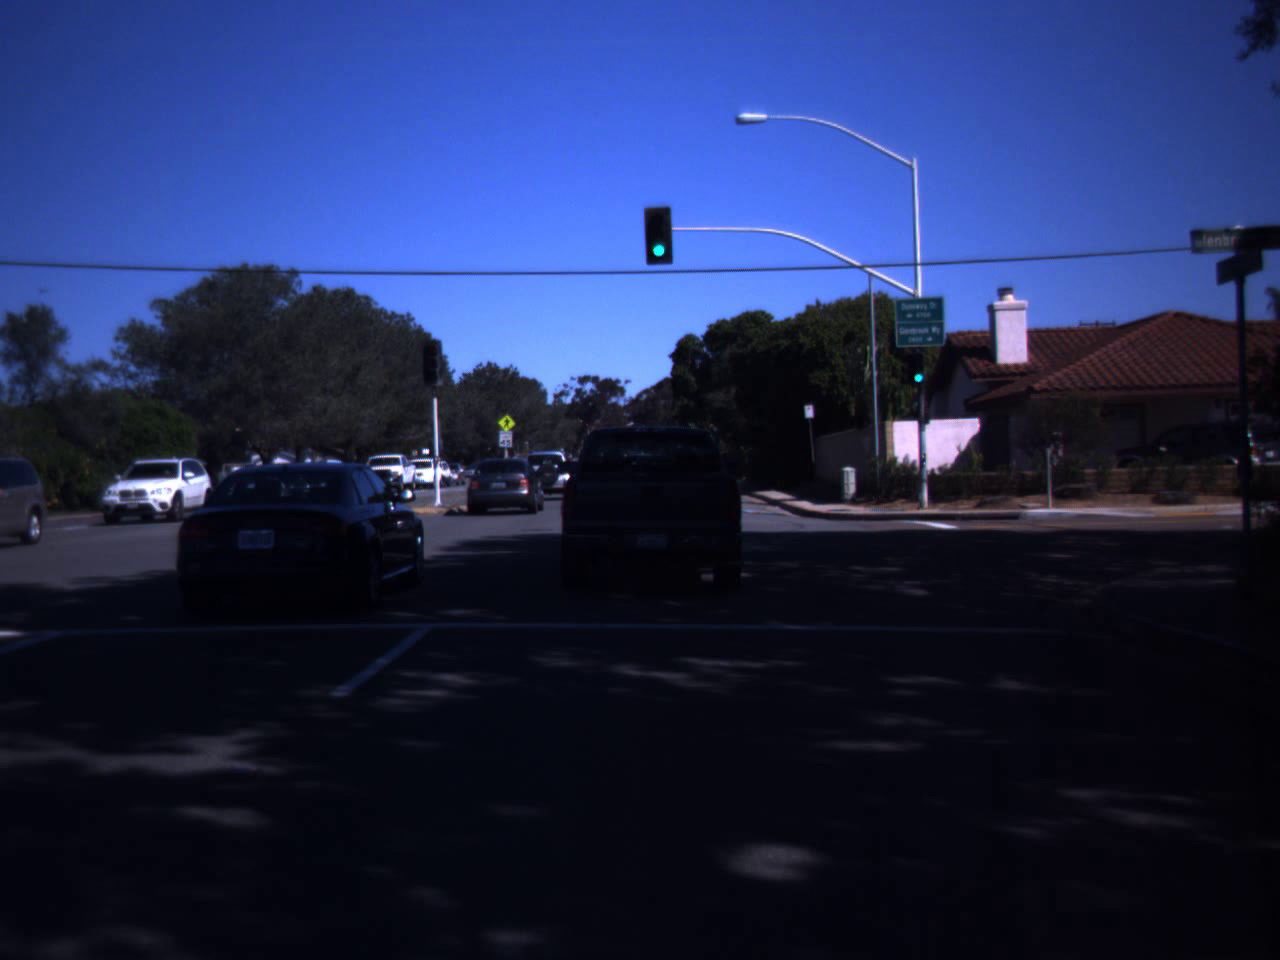go: (644, 206, 674, 261), (910, 350, 928, 385)
